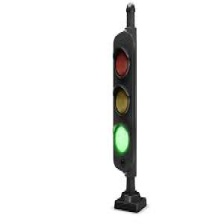semaforo: (113, 31, 137, 174)
